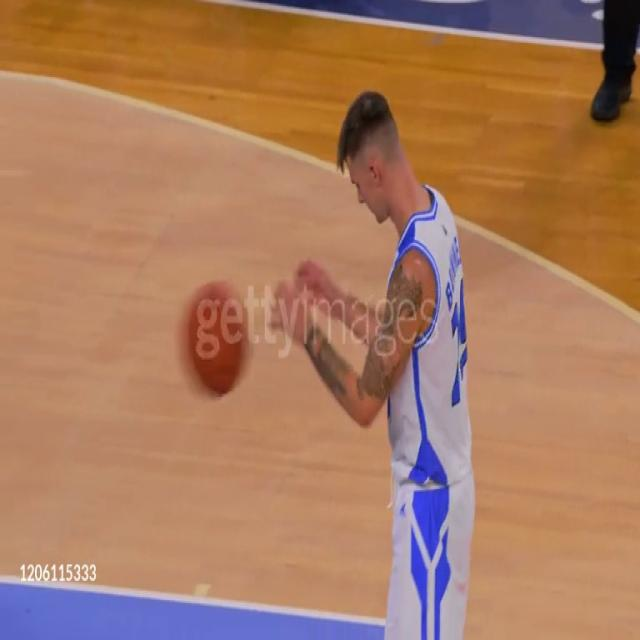ball: (177, 276, 253, 402)
